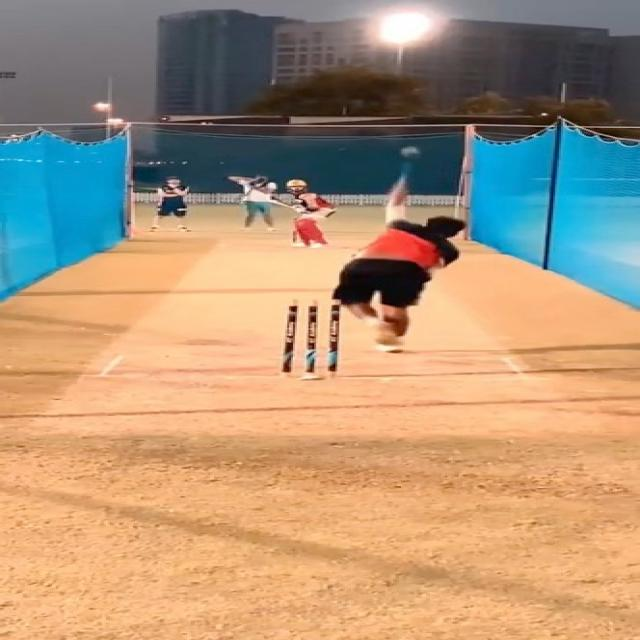batsman: (266, 179, 340, 249)
